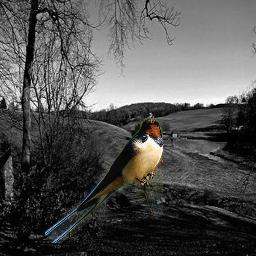Swallow: (45, 118, 163, 243)
